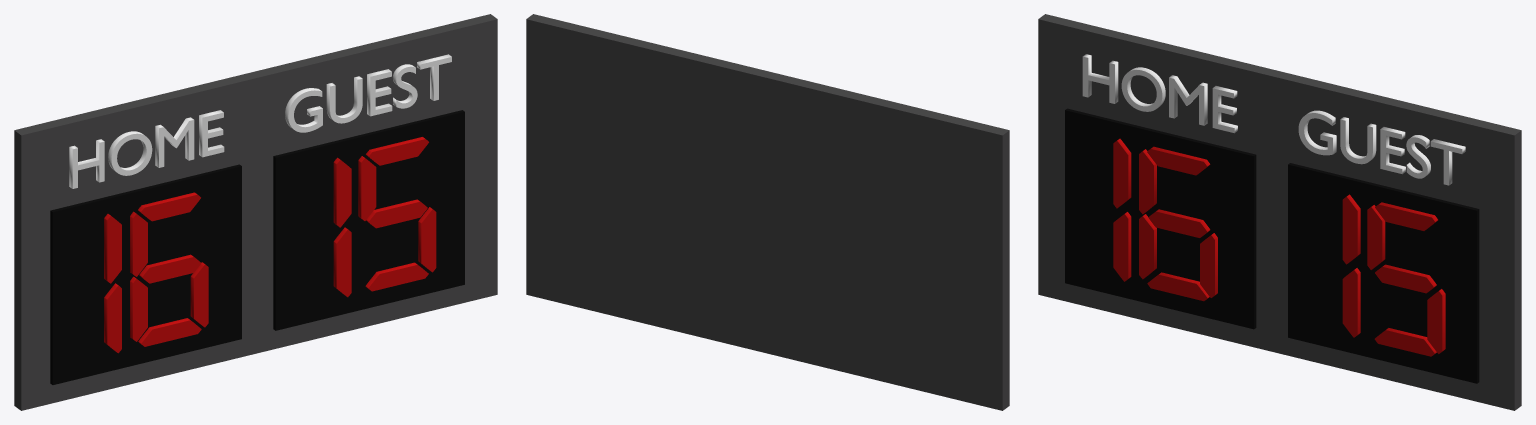
The model's file is ScoreB-Ep6.fbx.
The picture shows the model from 3 angles, left to right: view 1: azimuth 30°, elevation 25°; view 2: azimuth 150°, elevation 25°; view 3: azimuth 330°, elevation 25°; orthographic projection.
Parts seen in each view (by area): view 1: ScoreB; view 2: ScoreB; view 3: ScoreB.
Boxes of the visible parts, x1,y1,x2,y2 form: ScoreB: [14, 14, 497, 410]; ScoreB: [526, 14, 1009, 410]; ScoreB: [1038, 14, 1521, 410].
Bounding box in the file's own units: 1356 × 749 × 61.83.
